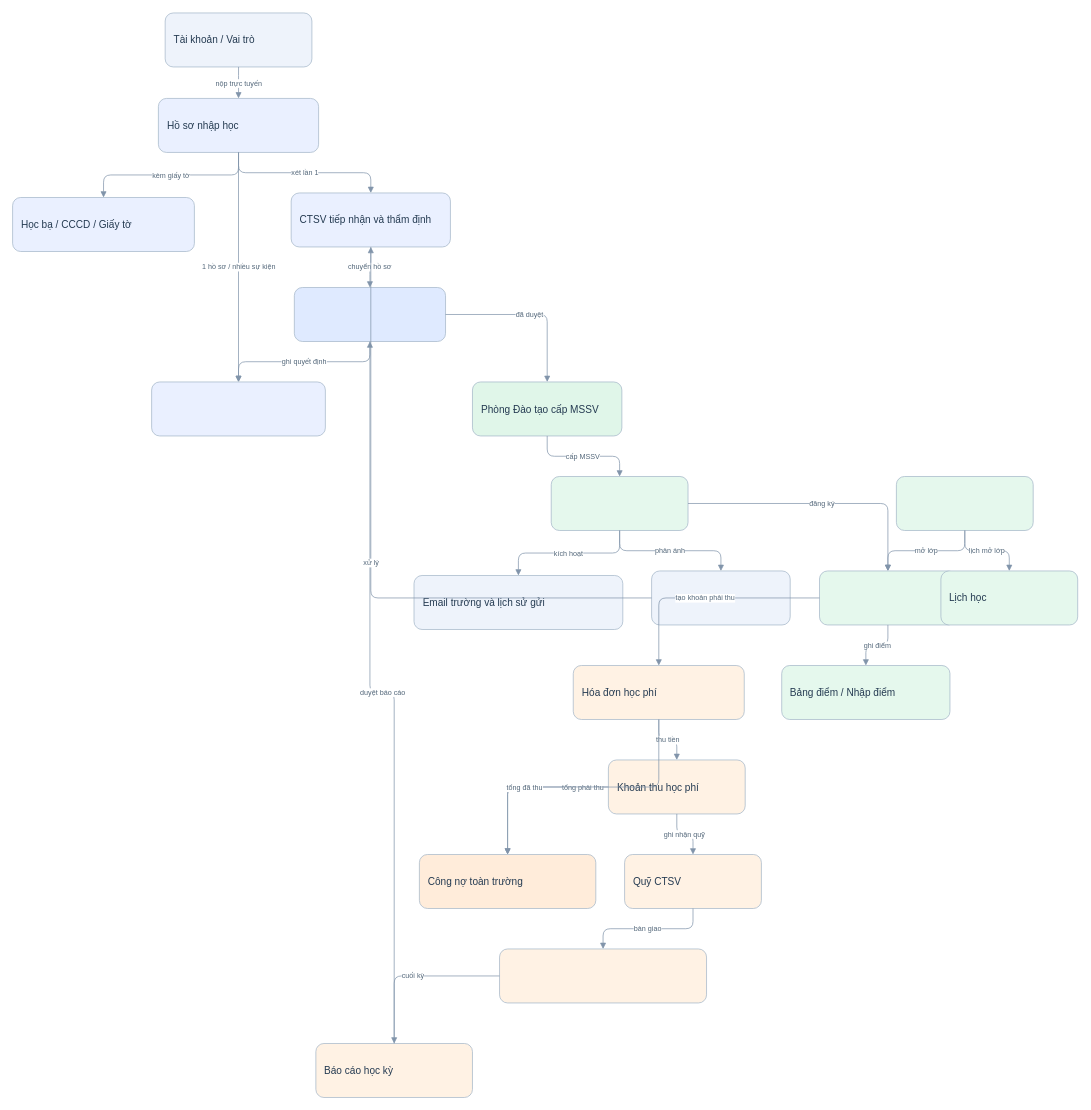
The diagram is 1091 pixels wide and 1110 high, and some of its shapes have lost their labels. The box of each missing label's shape, as (x1, y1, x2, y2) in pixels:
Ban giám hiệu phê duyệt cuối: (294, 287, 446, 341)
Bàn giao tiền: (499, 948, 707, 1003)
Hồ sơ sinh viên: (551, 476, 688, 530)
Lịch sử xét duyệt: (151, 381, 325, 436)
Lớp học phần: (896, 476, 1033, 530)
Yêu cầu sinh viên: (651, 570, 790, 625)
Đăng ký học phần: (819, 570, 956, 625)
